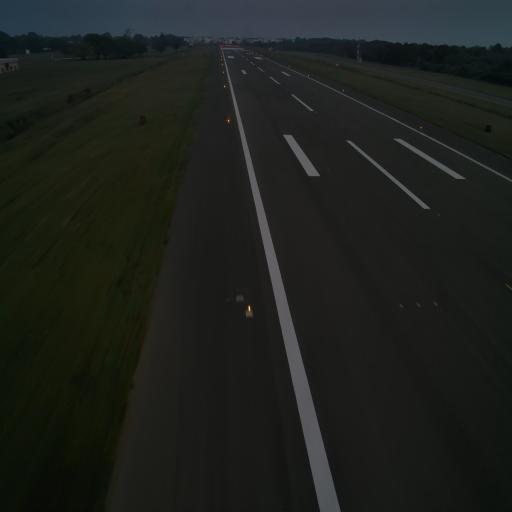off: (431, 296, 440, 310), (434, 208, 441, 220), (398, 301, 405, 312), (415, 299, 422, 310), (431, 169, 435, 174), (318, 166, 321, 172), (440, 168, 442, 176), (328, 166, 331, 170)
on: (503, 279, 512, 295), (246, 302, 252, 320), (226, 118, 231, 124), (420, 124, 422, 130)
